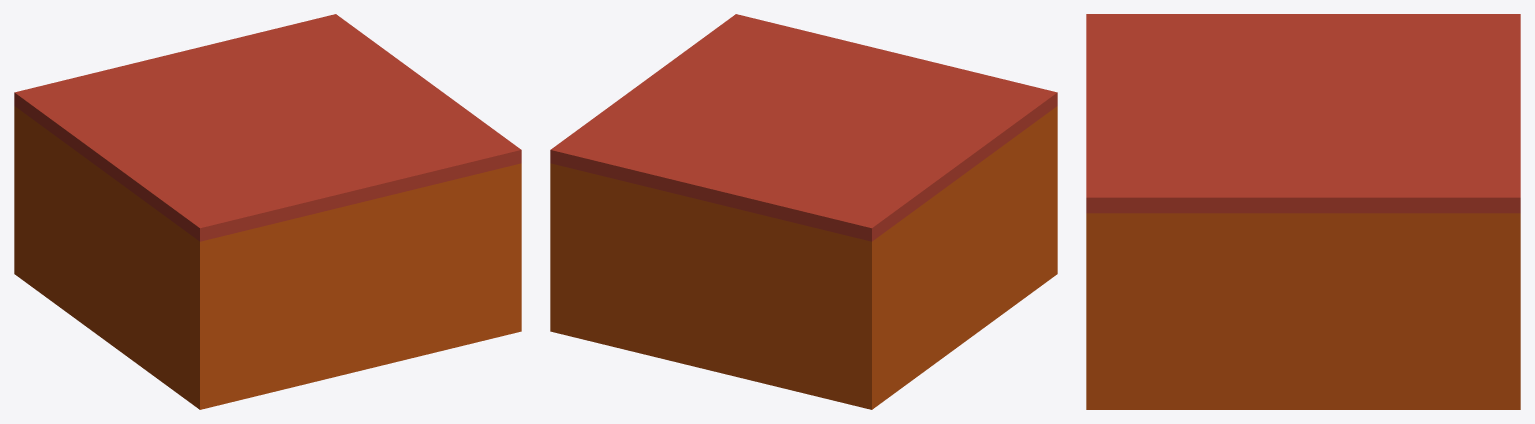
File: Foundation_cube.fbx
3 renders of one model, left to right at view 1: azimuth 30°, elevation 25°; view 2: azimuth 150°, elevation 25°; view 3: azimuth 270°, elevation 25°, orthographic. The views are drawn at different scales.
Parts seen in each view (by area): view 1: Base, Footing 4, Footing 2; view 2: Base, Footing 3, Footing 2; view 3: Base, Footing 1, Footing 3.
Boxes of the visible parts, bbox=[...] form: Base: bbox=[14, 14, 521, 241]; Footing 4: bbox=[199, 163, 521, 409]; Footing 2: bbox=[14, 106, 212, 409]; Base: bbox=[550, 14, 1057, 241]; Footing 3: bbox=[550, 163, 873, 409]; Footing 2: bbox=[859, 106, 1057, 409]; Base: bbox=[1086, 14, 1520, 213]; Footing 1: bbox=[1086, 213, 1520, 409]; Footing 3: bbox=[1503, 213, 1520, 409].
Size of the model in its own units: 500 by 270 by 500.
